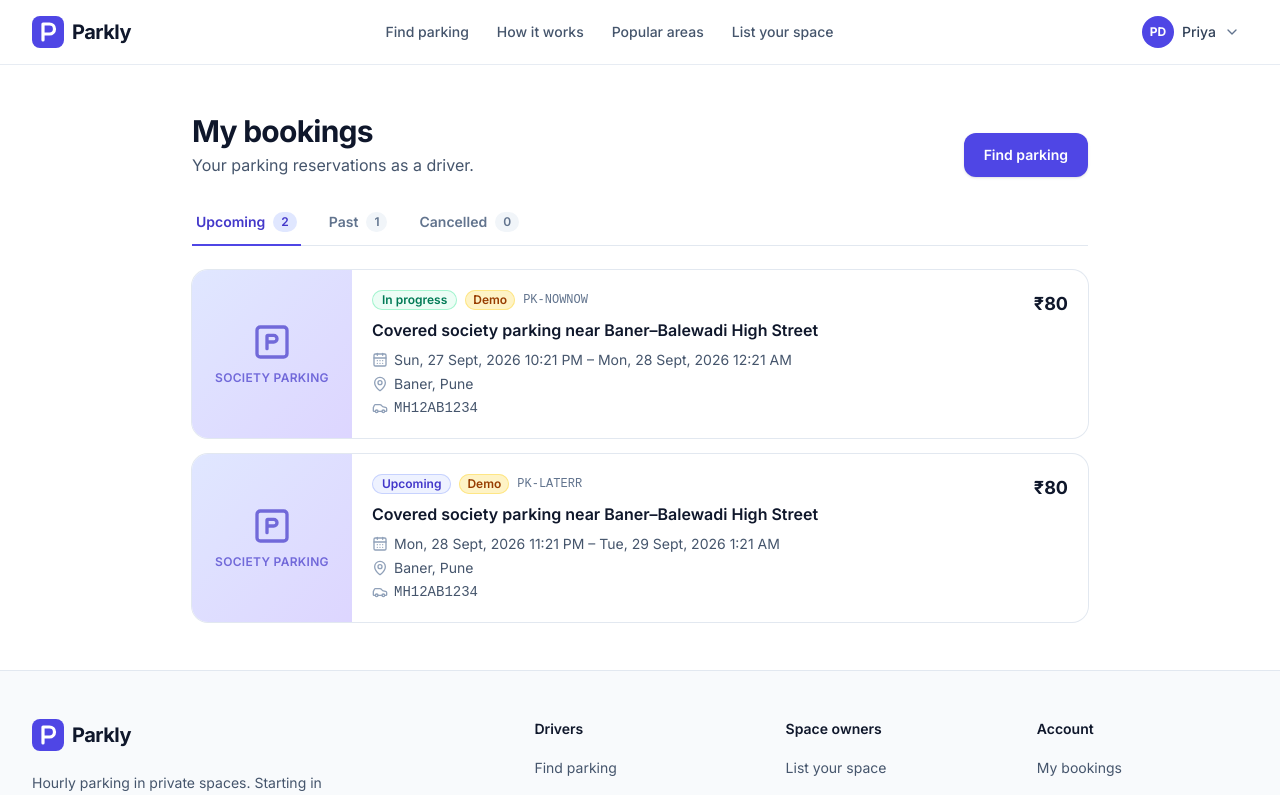
Test: My bookings page › switches tabs and shows an empty state
Click the link "Cancelled 0": (469, 222) [420,212,519,232]
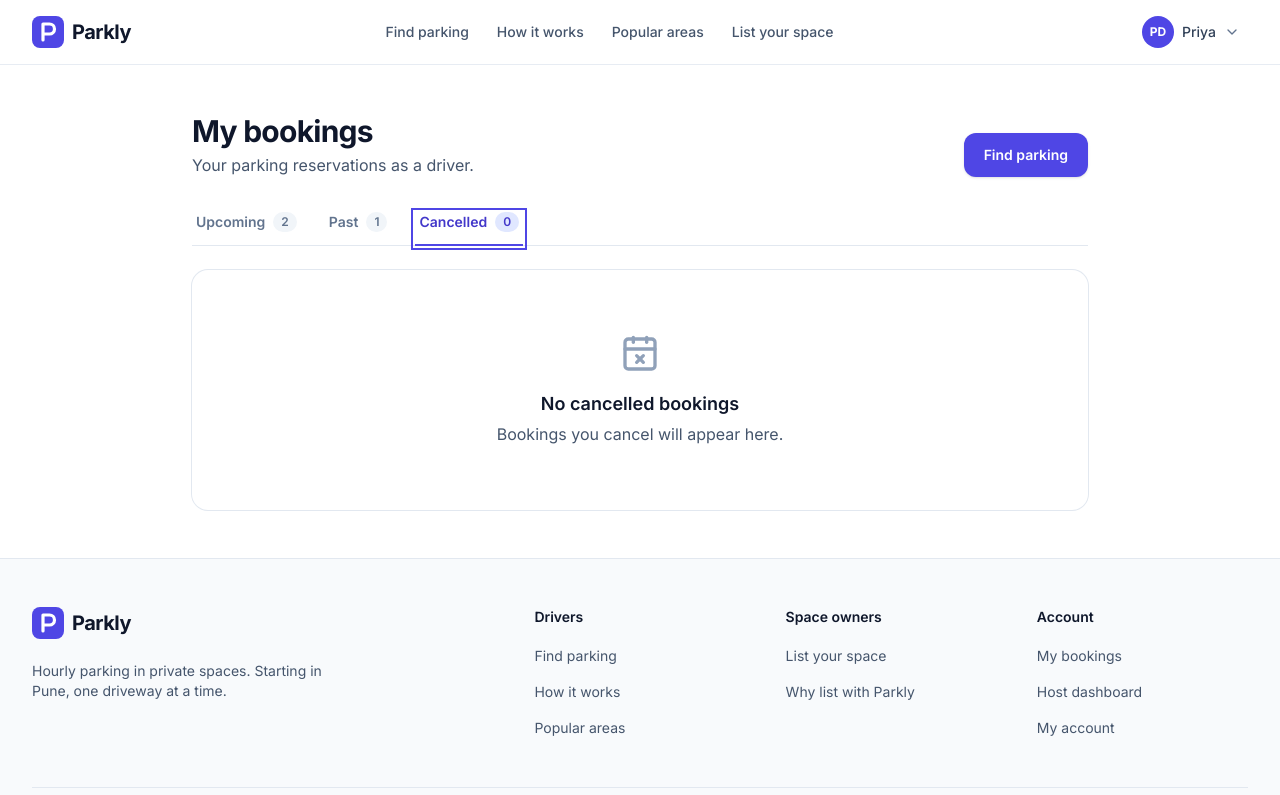
Now the heading "No cancelled bookings" is shown, box [541,393,739,414]
